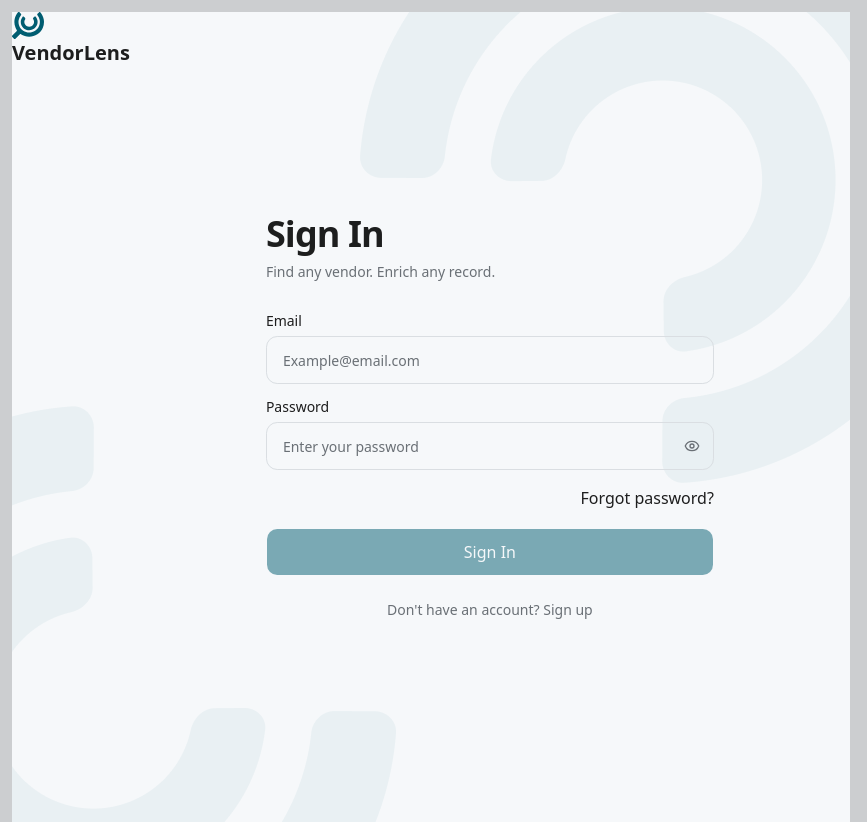
it: LoginForm › shows server error message on failed login
This screenshot has width=867, height=822.
Type "user@example.com" into the field labelled "Email" at (490, 360), box [266,336,714,384]
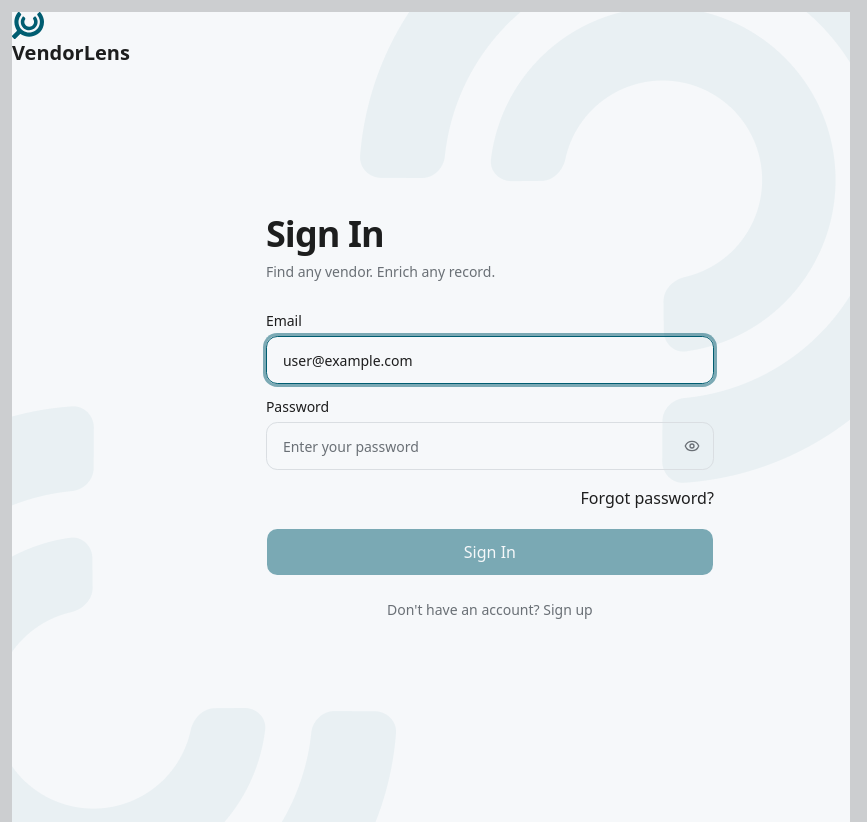
Type "wrongpassword" into the password field labelled "Password" at (490, 446), box [266,422,714,470]
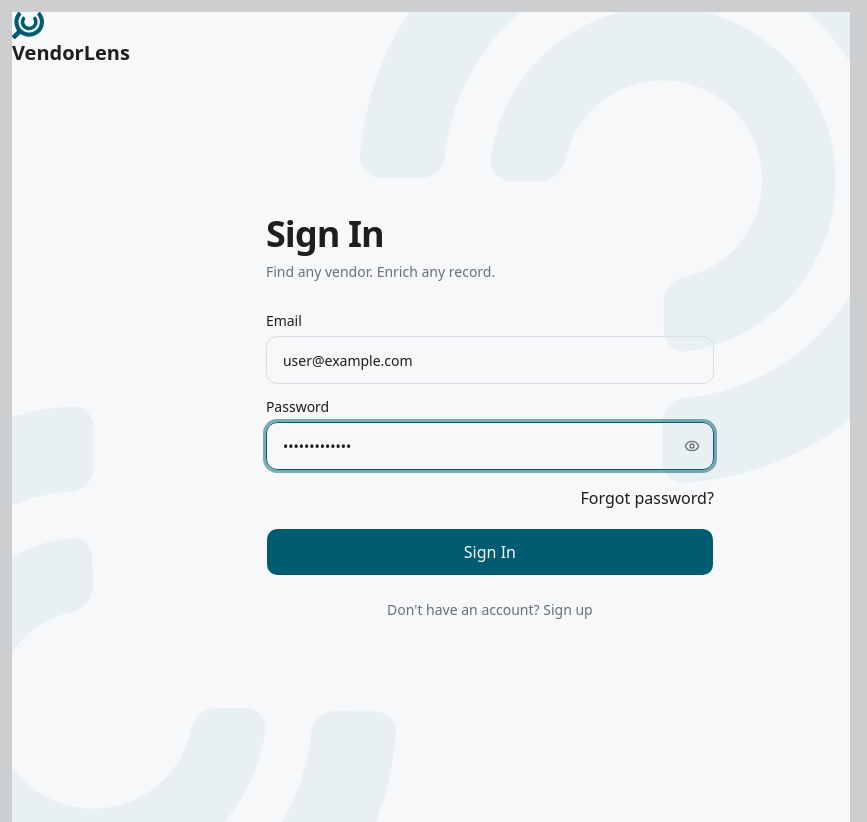
Click the button "Sign In" at (490, 552), box [266,528,714,576]
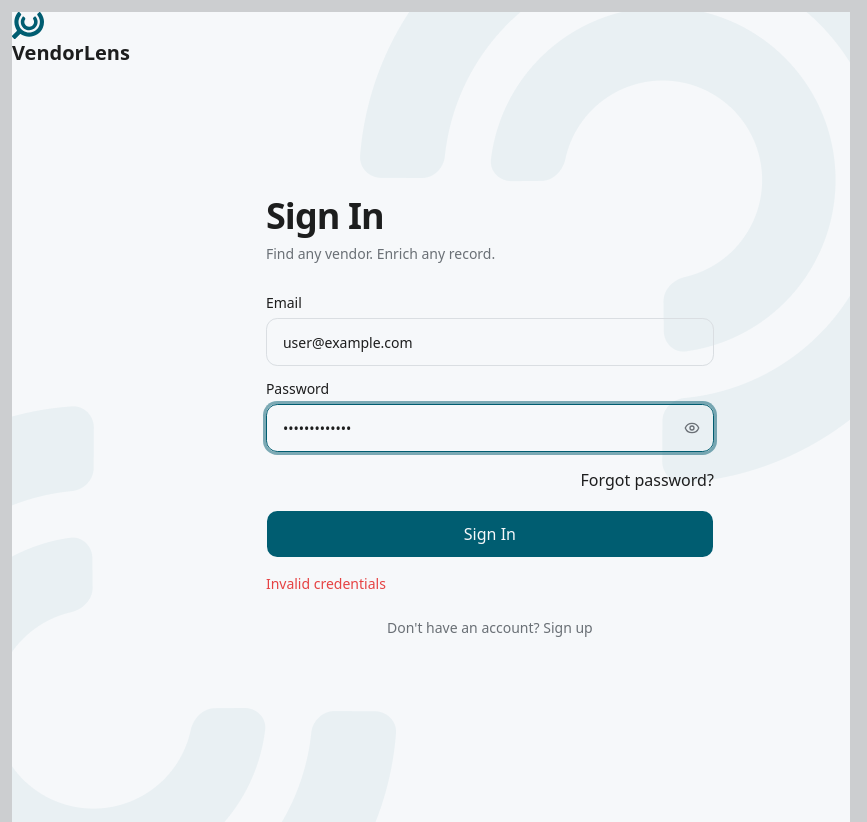
Now the text "Invalid credentials" is shown, box [266,574,386,593]
